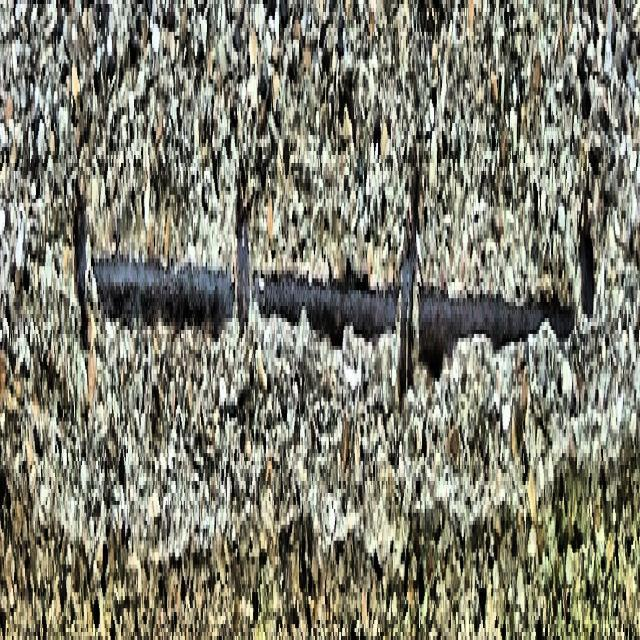D0w0: (237, 219, 398, 342), (75, 211, 235, 334), (419, 286, 574, 358), (401, 191, 417, 386), (581, 239, 592, 314)
